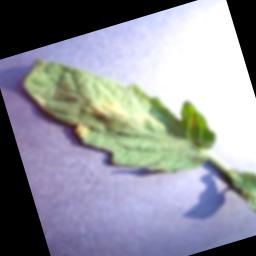Leaf_Mold: (84, 90, 131, 132), (65, 115, 91, 142)
